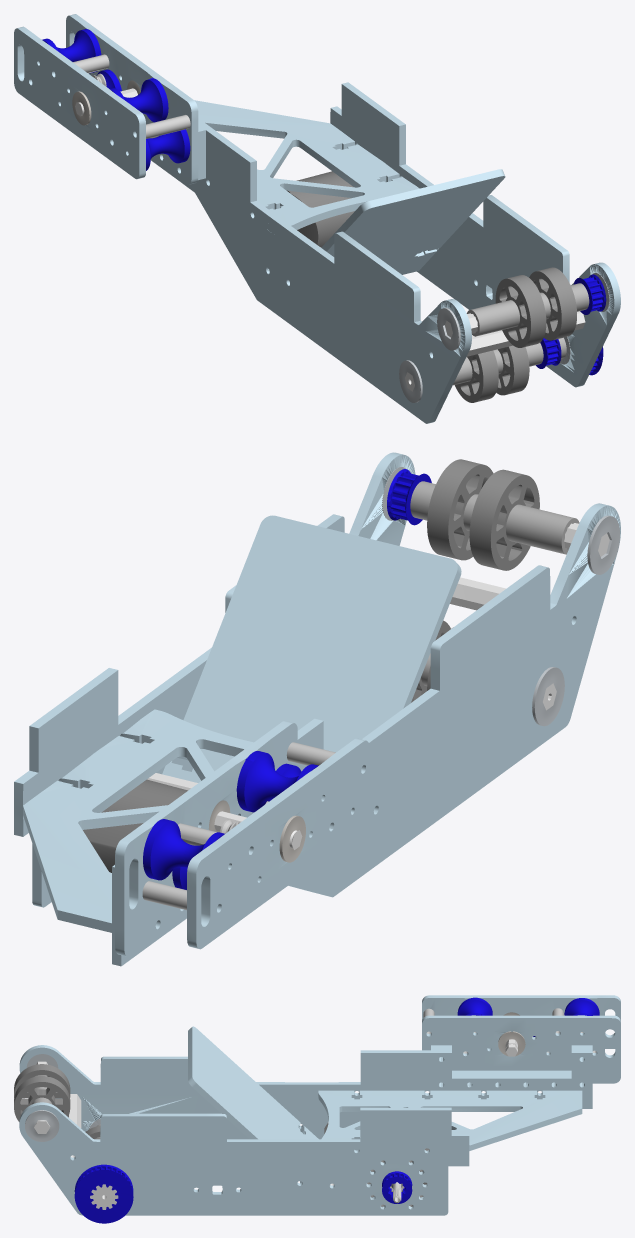
3 views of the same model, one above another, from view 1: azimuth 30°, elevation 25°; view 2: azimuth 150°, elevation 25°; view 3: azimuth 270°, elevation 25° (orthographic). The views are drawn at different scales.
Visible parts, largest first — view 1: model_2; view 2: model_2; view 3: model_2.
Part boxes in pixels (x1=…): model_2: x1=14, y1=14, x2=620, y2=423; model_2: x1=14, y1=452, x2=620, y2=966; model_2: x1=14, y1=995, x2=620, y2=1223.
Size of the model in its own units: 0.2232 by 0.1344 by 0.548.
